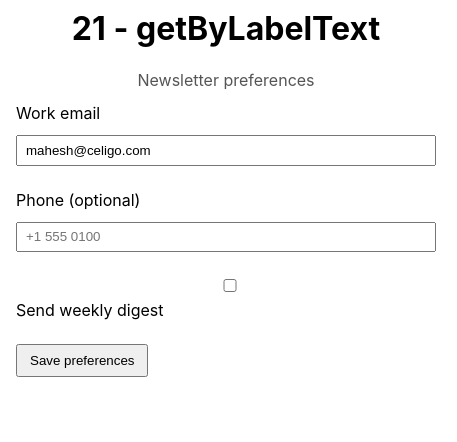
it: getByLabelText › checkbox — present and toggles on click
The width and height of the screenshot is (457, 442).
Click the checkbox labelled "Send weekly digest": [230, 285] box x1=20 y1=279 x2=440 y2=292
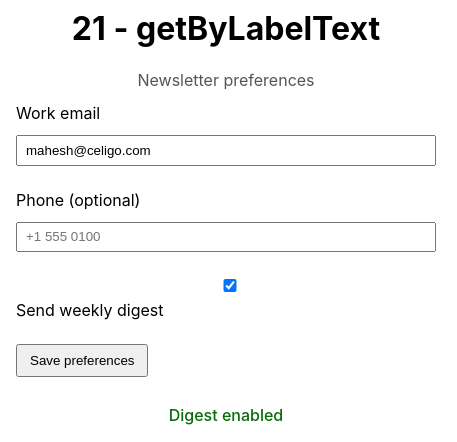
Result: the checkbox labelled "Send weekly digest" is checked at x1=20 y1=279 x2=440 y2=292
Result: the message reads "Digest enabled" at x1=169 y1=405 x2=283 y2=425
